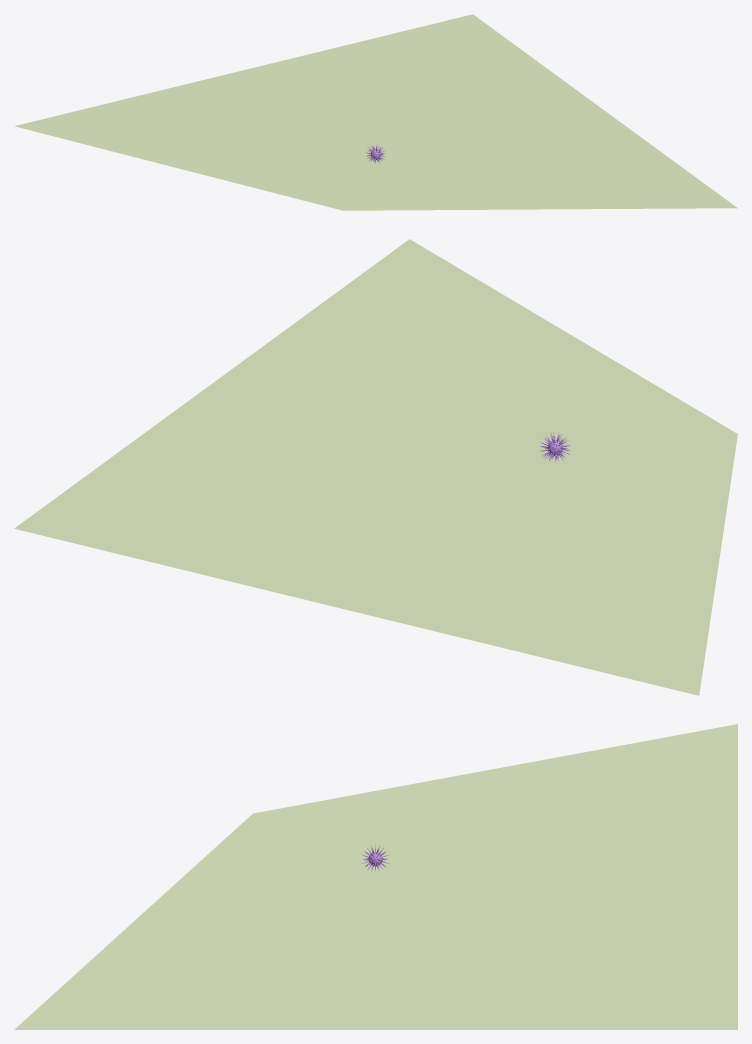
File: urchin.glb
3 renders of one model, top to bottom at view 1: azimuth 30°, elevation 25°; view 2: azimuth 150°, elevation 25°; view 3: azimuth 270°, elevation 25°, orthographic. The views are drawn at different scales.
Visible parts, largest first — view 1: Urchinspike.080; view 2: Urchinspike.080; view 3: Urchinspike.080.
Boxes of the visible parts, bbox=[...] form: Urchinspike.080: bbox=[14, 14, 737, 210]; Urchinspike.080: bbox=[14, 239, 737, 695]; Urchinspike.080: bbox=[14, 724, 737, 1029].
Size of the model in its own units: 33.08 by 1.57 by 33.08.
